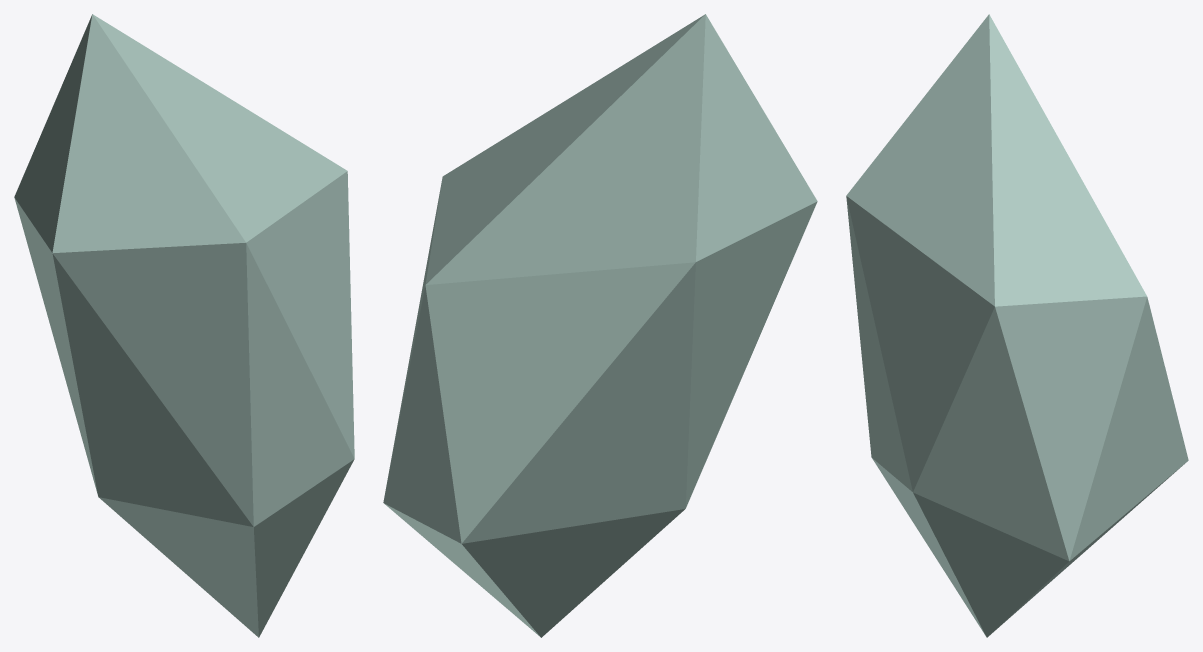
Rendered from kamen3.fbx.
The picture shows the model from 3 angles, left to right: view 1: azimuth 30°, elevation 25°; view 2: azimuth 150°, elevation 25°; view 3: azimuth 270°, elevation 25°; orthographic projection. The views are drawn at different scales.
Visible parts, largest first — view 1: kamen4; view 2: kamen4; view 3: kamen4.
Boxes of the visible parts, x1,y1,x2,y2 form: kamen4: (14, 14, 354, 637); kamen4: (383, 14, 817, 637); kamen4: (846, 14, 1188, 637).
Bounding box in the file's own units: 153 × 278 × 155.
